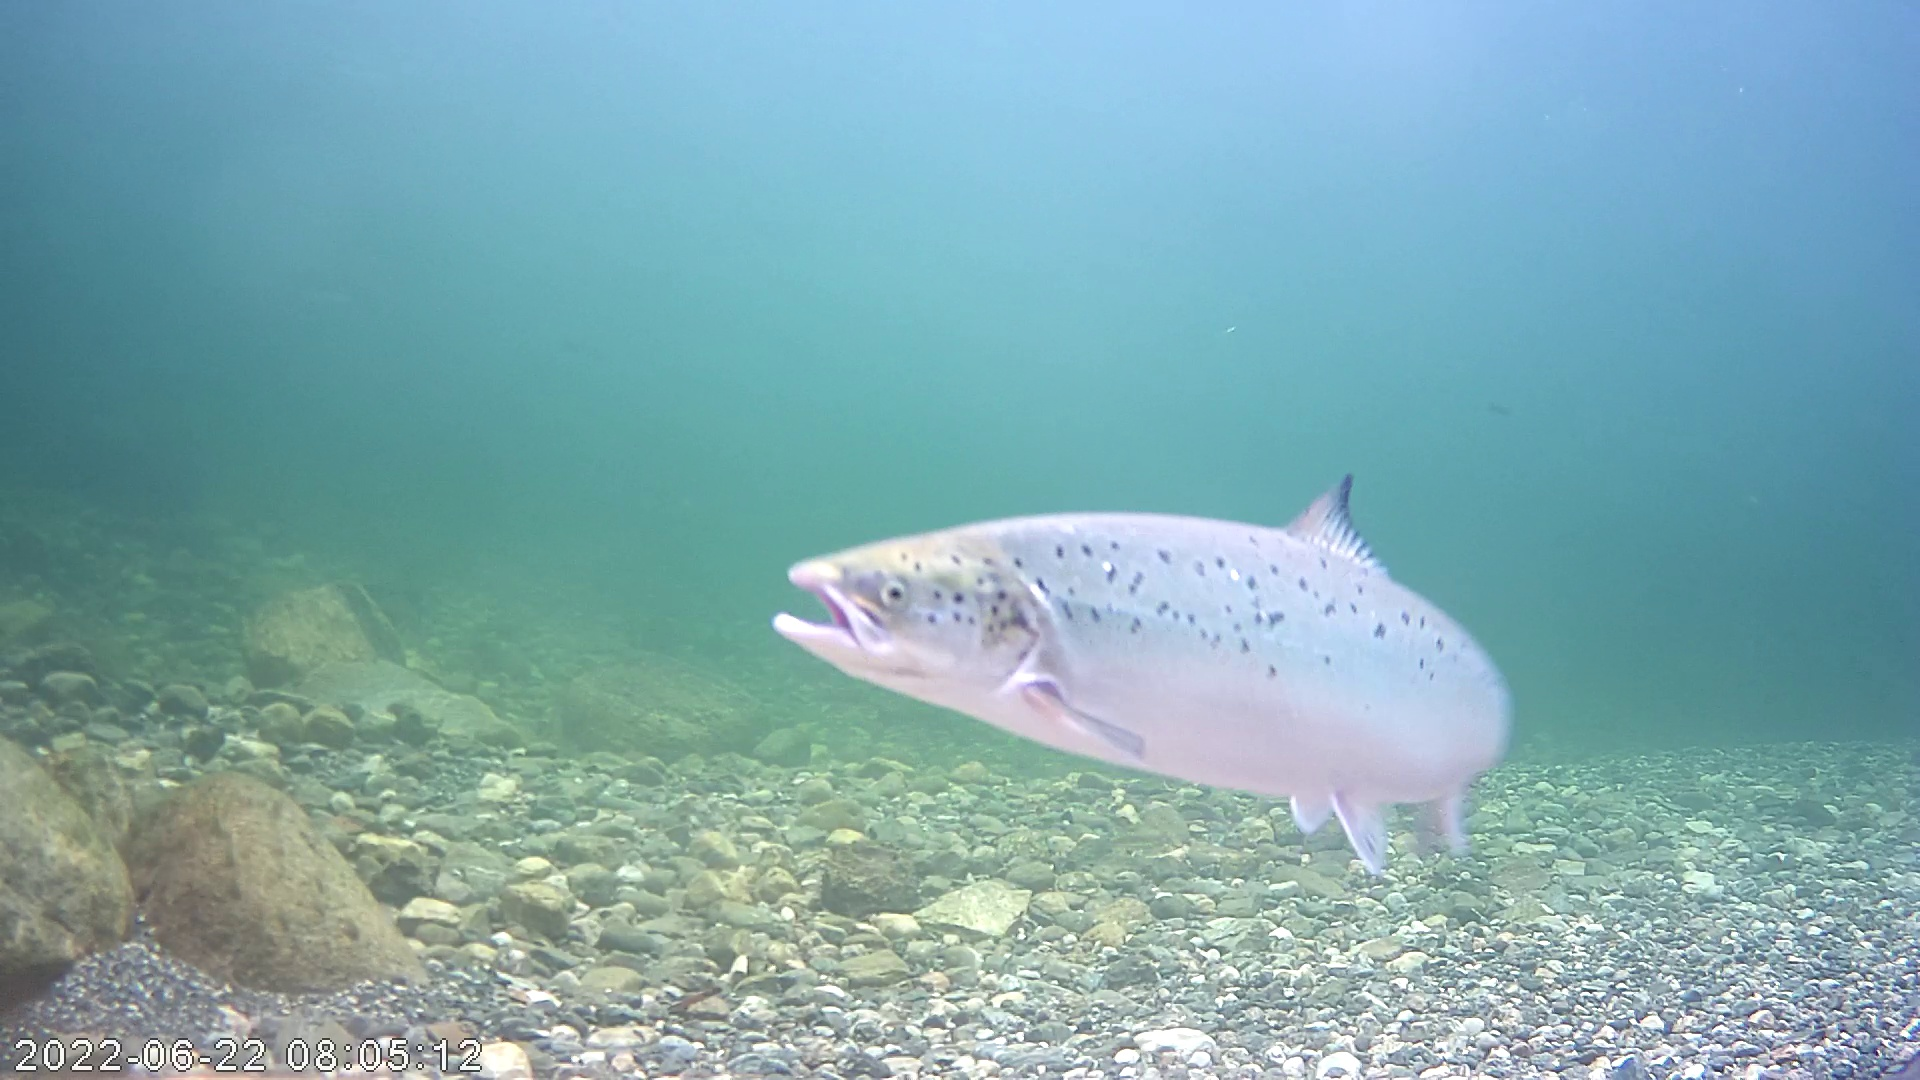salmon: (767, 472, 1520, 882)
